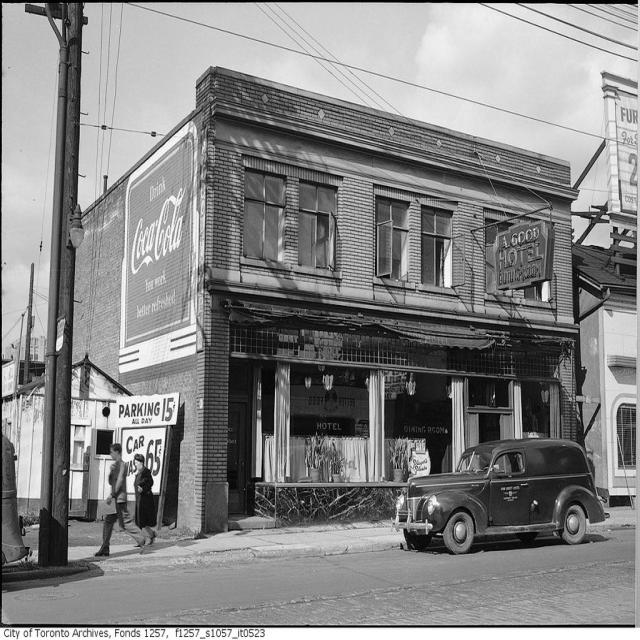car: (387, 431, 608, 557)
